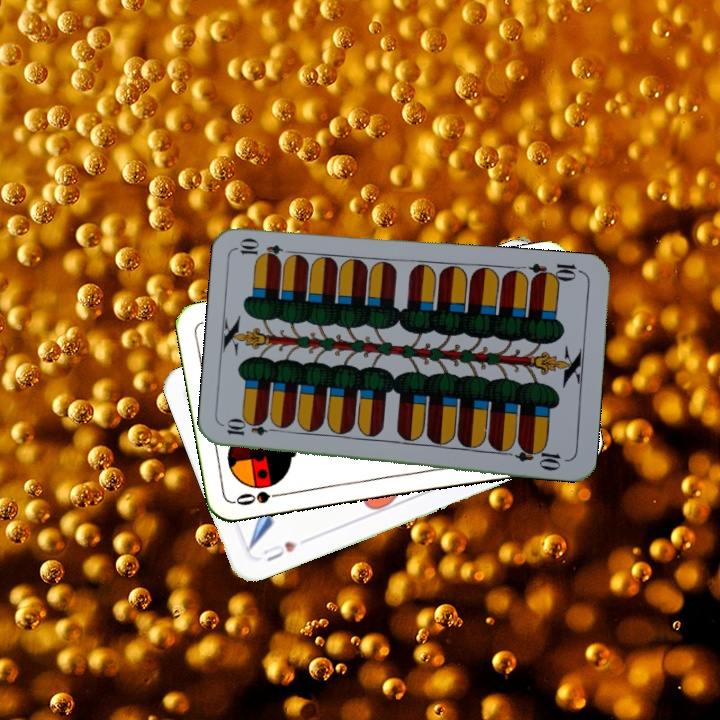E10: (526, 259, 585, 285), (223, 419, 282, 439)
HU: (258, 537, 299, 564)
SO: (232, 487, 291, 508)
